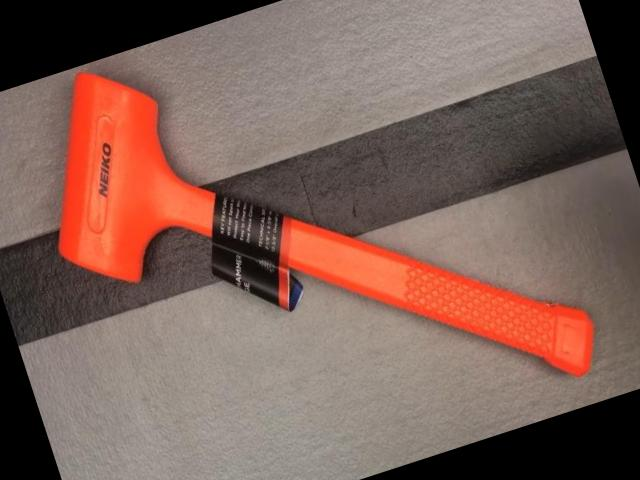hammer: (7, 0, 609, 480)
